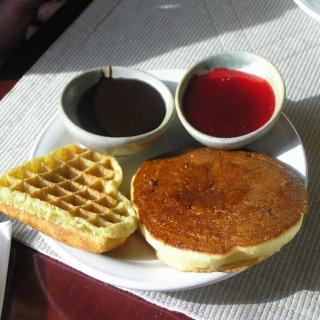Pancake: (130, 147, 307, 273), (0, 143, 136, 256)
Waffle: (0, 142, 138, 250)
